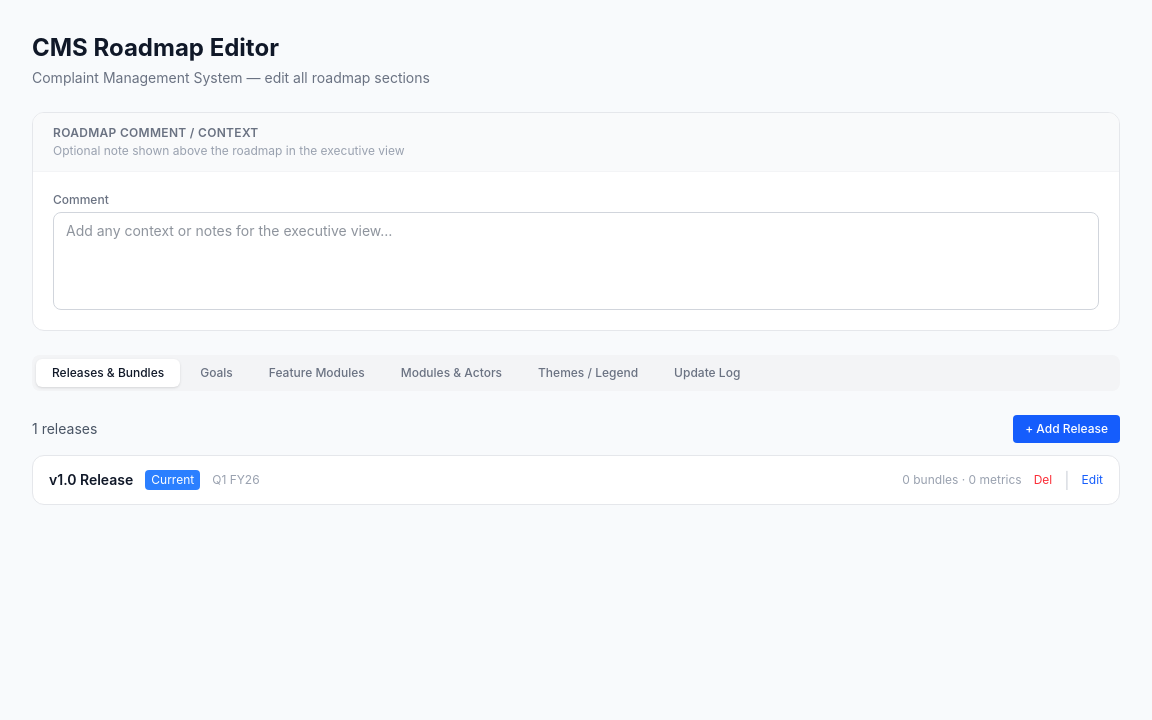
Test: ComplaintsRoadmapEditor (via RoadmapEditor with cms slug) › T-50.19: pre-seeded goal renders in Goals tab
The image size is (1152, 720).
Click the button "Goals": (216,373) x1=184 y1=359 x2=249 y2=387
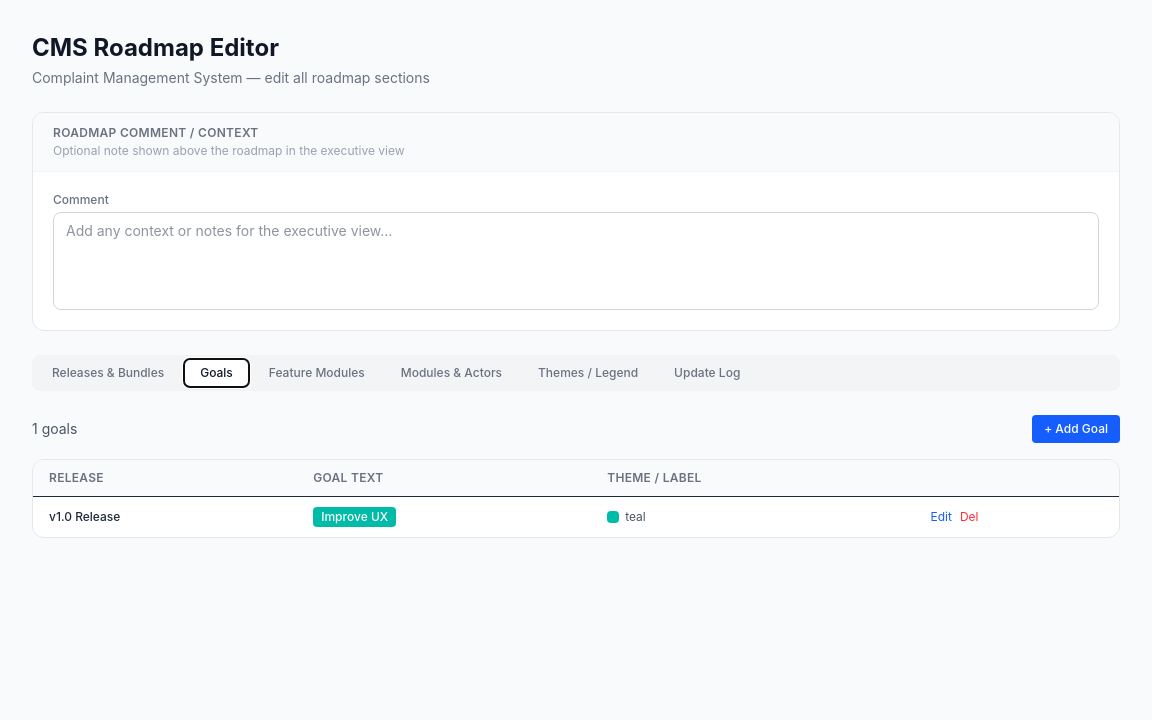
Result: the text "Improve UX" is shown at x1=313 y1=507 x2=396 y2=527
